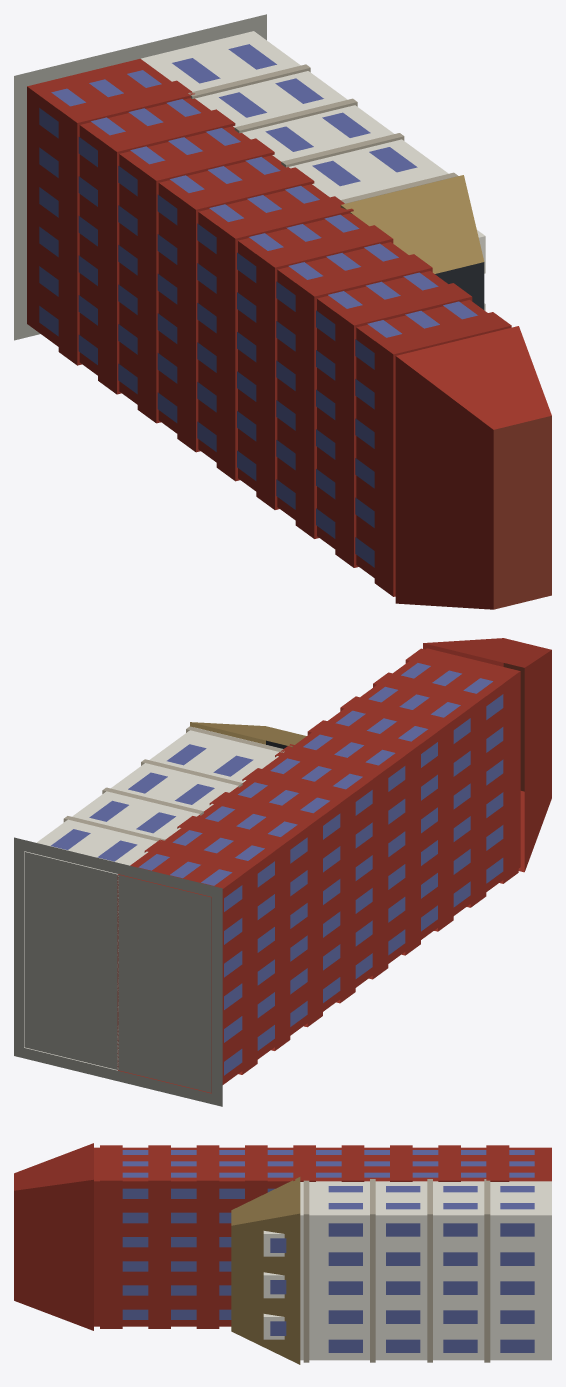
The model's file is complete.glb.
The picture shows the model from 3 angles, top to bottom: view 1: azimuth 30°, elevation 25°; view 2: azimuth 150°, elevation 25°; view 3: azimuth 270°, elevation 25°; orthographic projection. The views are drawn at different scales.
Parts seen in each view (by area): view 1: complete; view 2: complete; view 3: complete.
Part boxes in pixels (box(x1,y1,x2,y2)): complete: box(14, 14, 551, 609); complete: box(14, 638, 551, 1106); complete: box(14, 1143, 551, 1364).
Bounding box in the file's own units: 15.6 × 15.6 × 47.
